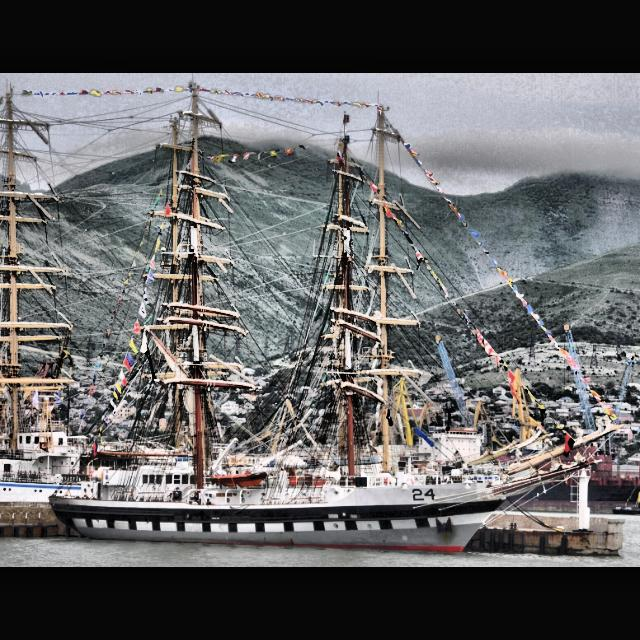sailing_vessel: (48, 82, 626, 556)
